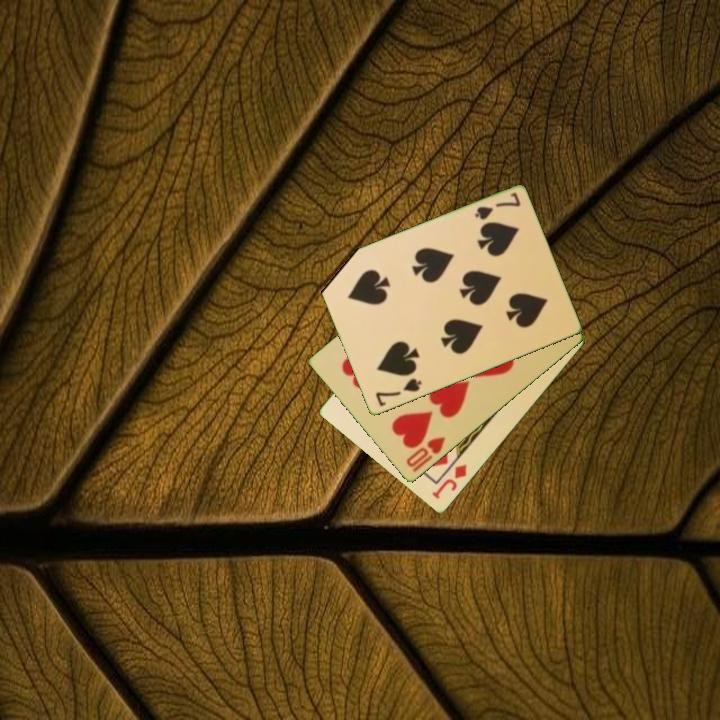10h: (402, 433, 448, 476)
7s: (372, 375, 425, 410), (471, 189, 523, 223)
Jd: (429, 461, 470, 502)
